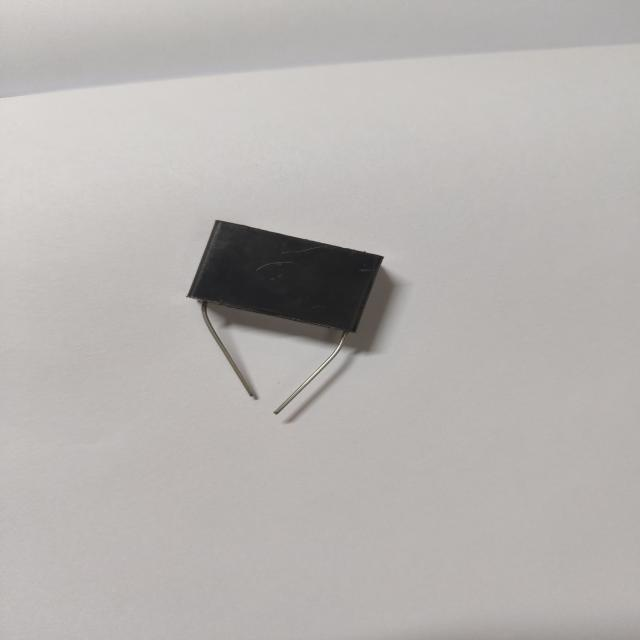capacitor: (187, 220, 383, 415)
